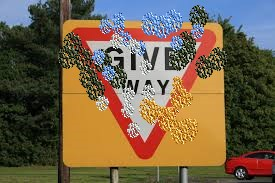giveway: (70, 25, 217, 160), (84, 63, 196, 146), (134, 26, 208, 149), (78, 25, 156, 140), (82, 33, 218, 85)
